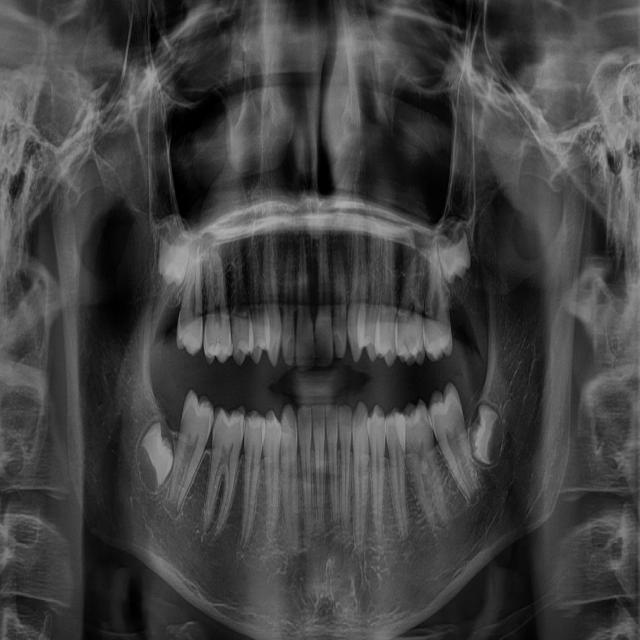Caries: (315, 338, 330, 362), (179, 420, 184, 435), (211, 440, 215, 456)
